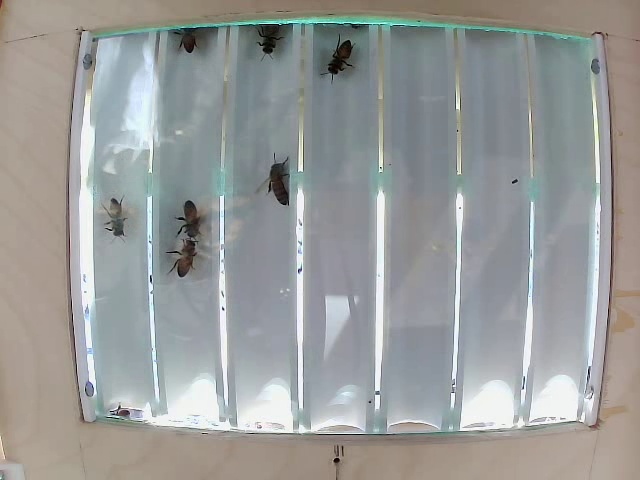bee: (81, 187, 135, 243), (168, 23, 226, 67), (172, 191, 215, 244), (262, 158, 302, 213), (320, 46, 366, 83), (261, 17, 296, 61), (175, 244, 206, 291)
